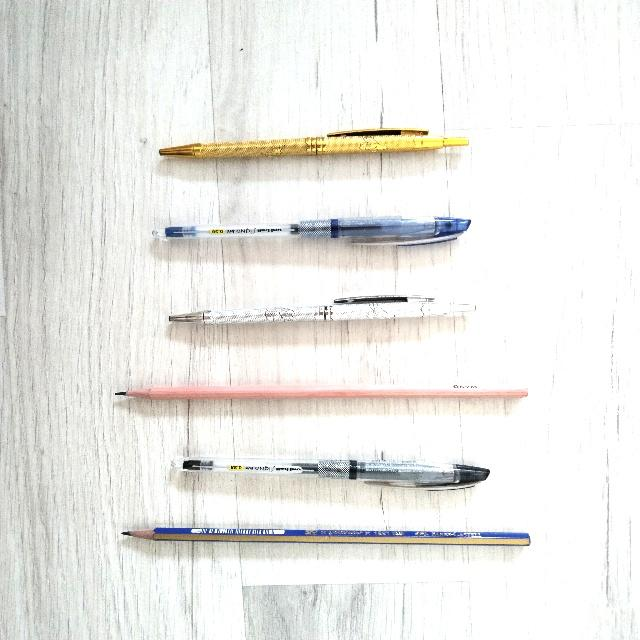pen: (172, 457, 489, 488), (153, 216, 470, 245)
pencil: (122, 527, 529, 545), (116, 385, 527, 399)
signature pen: (159, 128, 468, 157), (169, 295, 474, 323)
